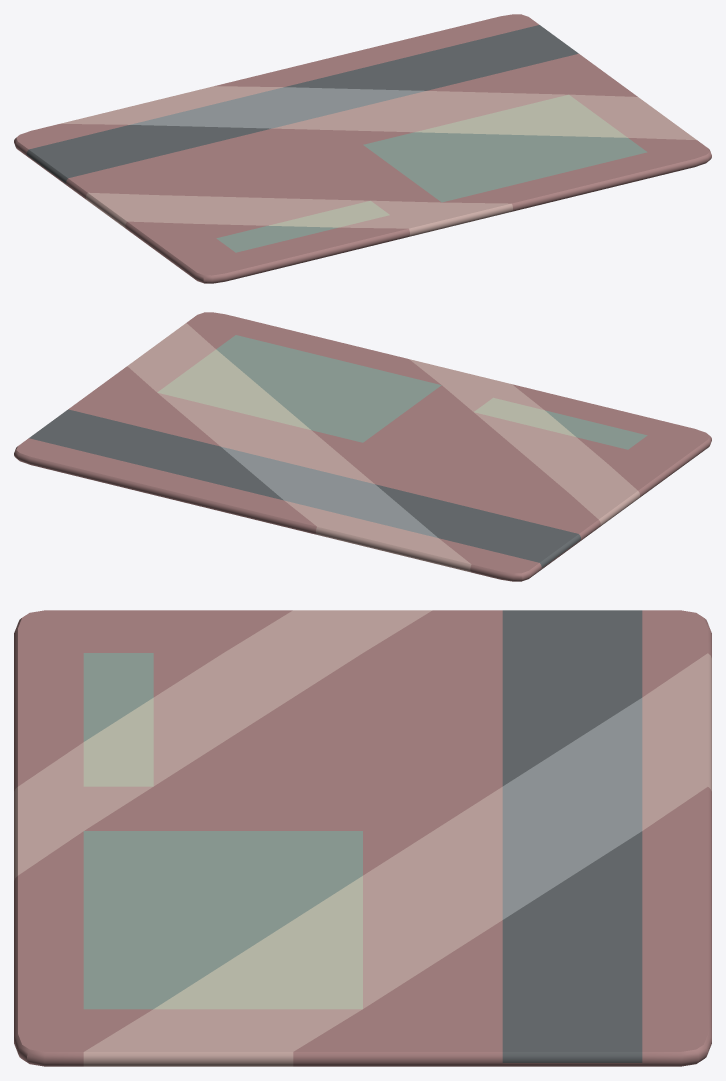
File: Office_Security_Card.fbx
3 renders of one model, top to bottom at view 1: azimuth 30°, elevation 25°; view 2: azimuth 150°, elevation 25°; view 3: azimuth 270°, elevation 25°, orthographic. The views are drawn at different scales.
Visible parts, largest first — view 1: pPlane7; view 2: pPlane7; view 3: pPlane7.
Part boxes in pixels (left/top/right/bottom): pPlane7: left=14, top=14, right=711, bottom=283; pPlane7: left=14, top=312, right=711, bottom=581; pPlane7: left=14, top=610, right=711, bottom=1066.
Bounding box in the file's own units: 5.7 × 0.0876 × 3.78.
